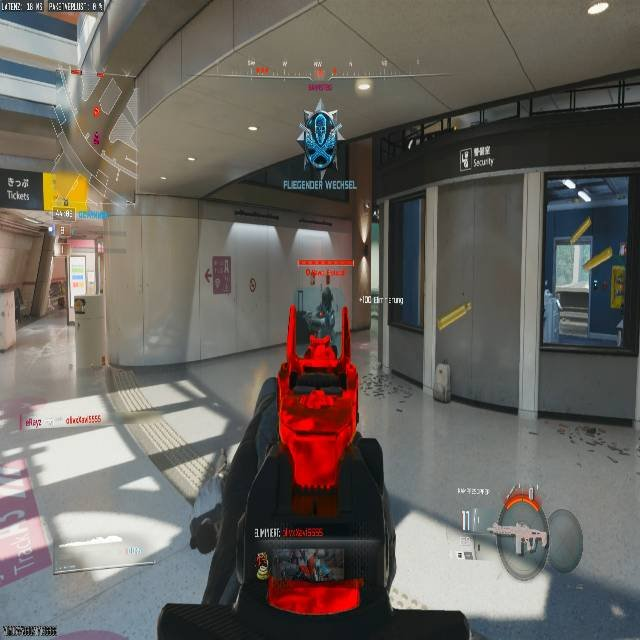player: (190, 341, 399, 616), (297, 103, 343, 179), (316, 288, 339, 348)
